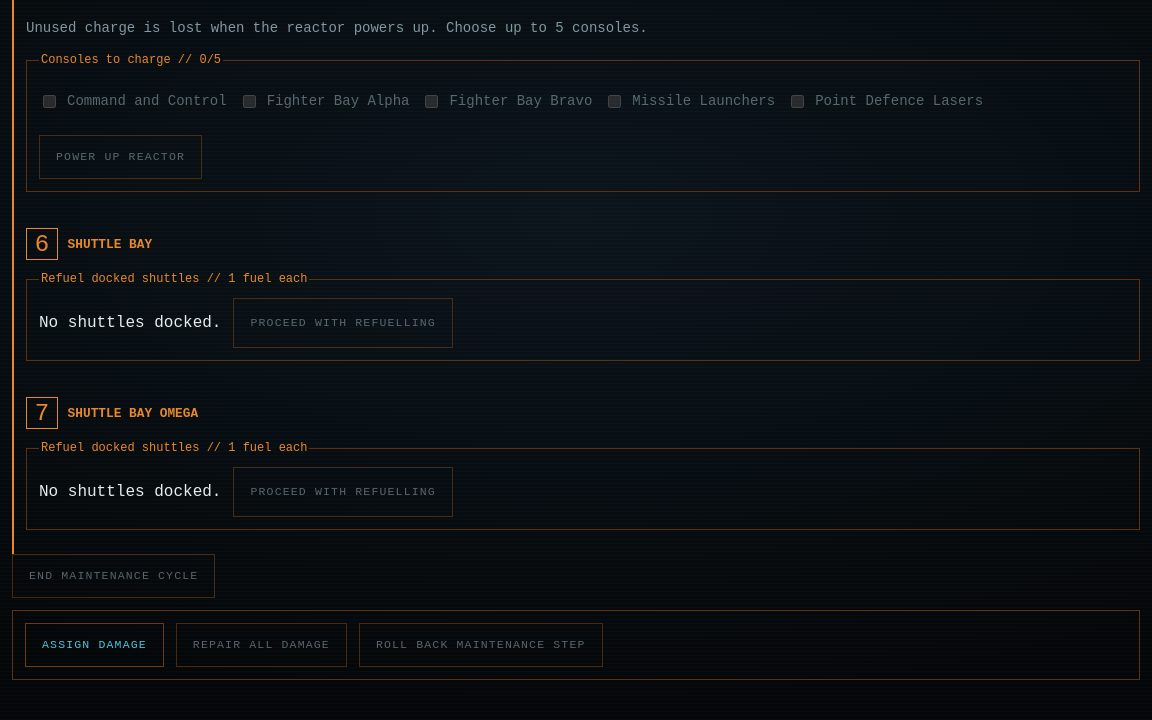
Test: notes the drawn card beside the GM control that applied damage
(page scrolled)
Click the button "Assign damage". click: (94, 645)
box: [25,623,164,667]
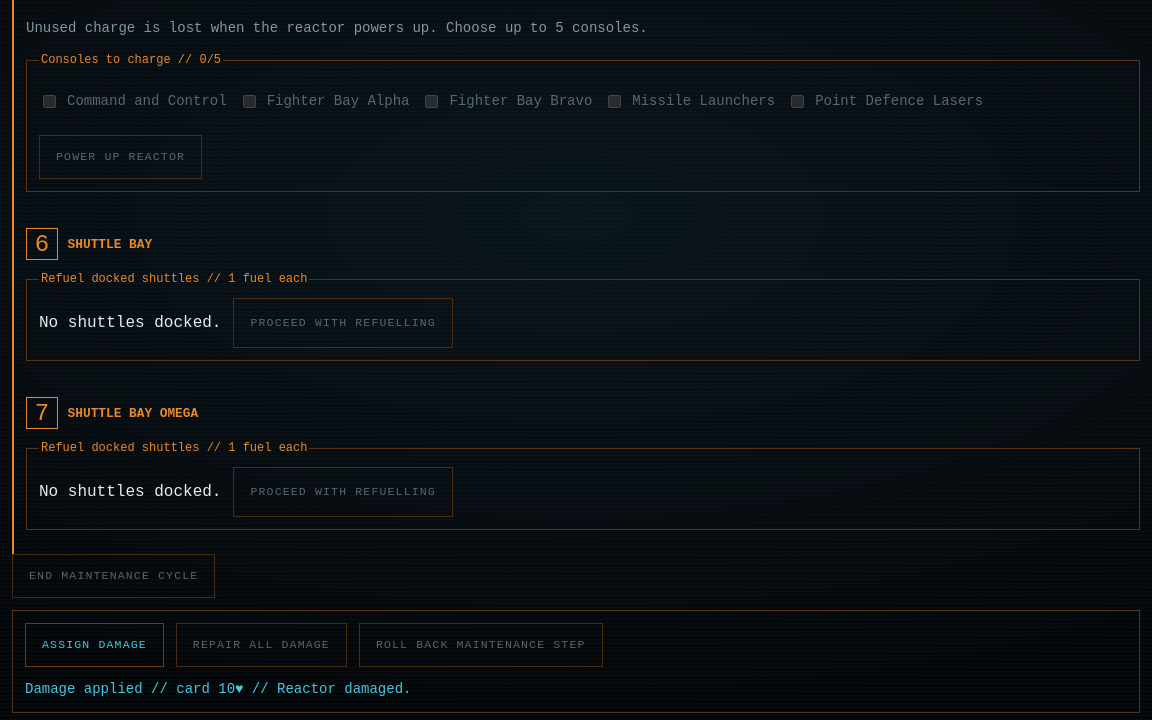
Check: the message reads "Damage applied // card 10♥ // Reactor damaged.", box [25,681,412,697]
